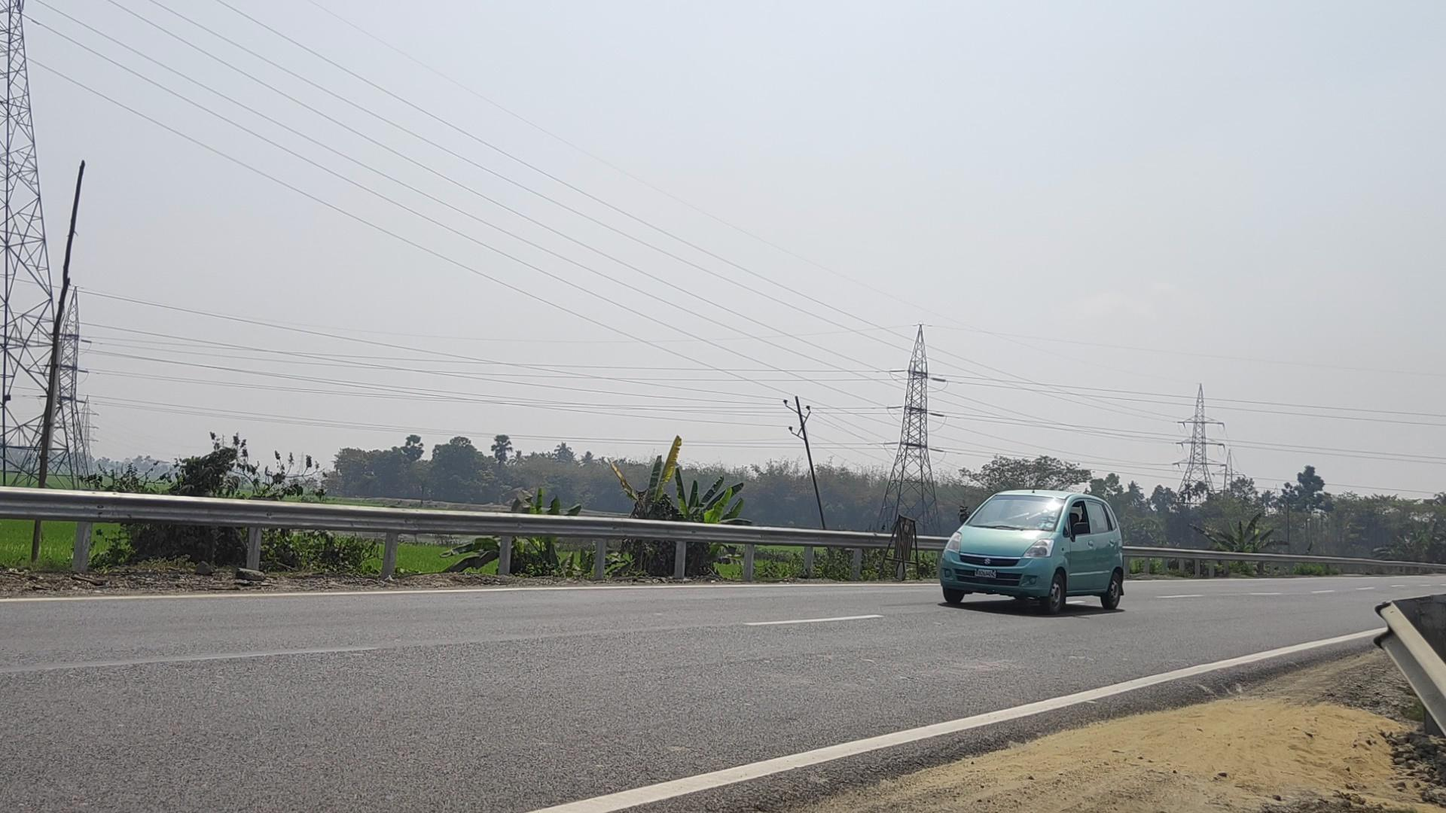car: (939, 489, 1124, 614)
